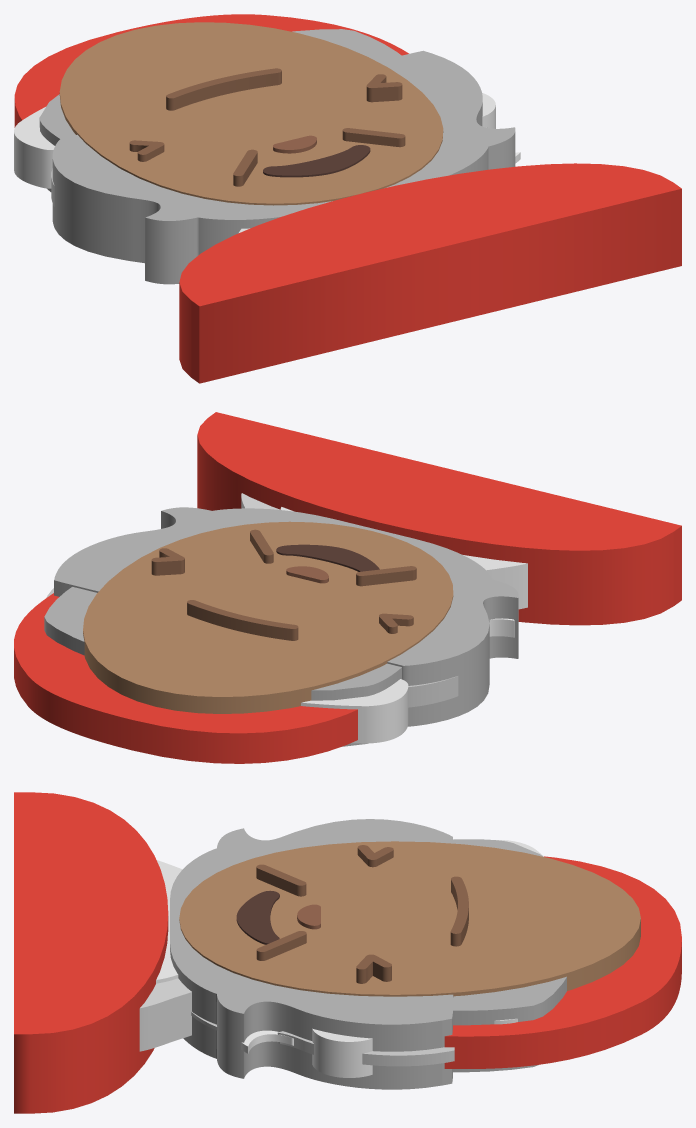
The model's file is emoji_u1f9d1_1f3fd_200d_1f384.glb.
3 views of the same model, one above another, from view 1: azimuth 30°, elevation 25°; view 2: azimuth 150°, elevation 25°; view 3: azimuth 270°, elevation 25° (orthographic). The views are drawn at different scales.
Visible parts, largest first — view 1: emoji_u1f9d1_1f3fd_200d_1f384; view 2: emoji_u1f9d1_1f3fd_200d_1f384; view 3: emoji_u1f9d1_1f3fd_200d_1f384.
Part boxes in pixels (x1,y1,x2,y2): emoji_u1f9d1_1f3fd_200d_1f384: [14, 14, 681, 383]; emoji_u1f9d1_1f3fd_200d_1f384: [14, 412, 681, 763]; emoji_u1f9d1_1f3fd_200d_1f384: [14, 792, 681, 1113].
Bounding box in the file's own units: 0.0287 × 0.0054 × 0.0335.
